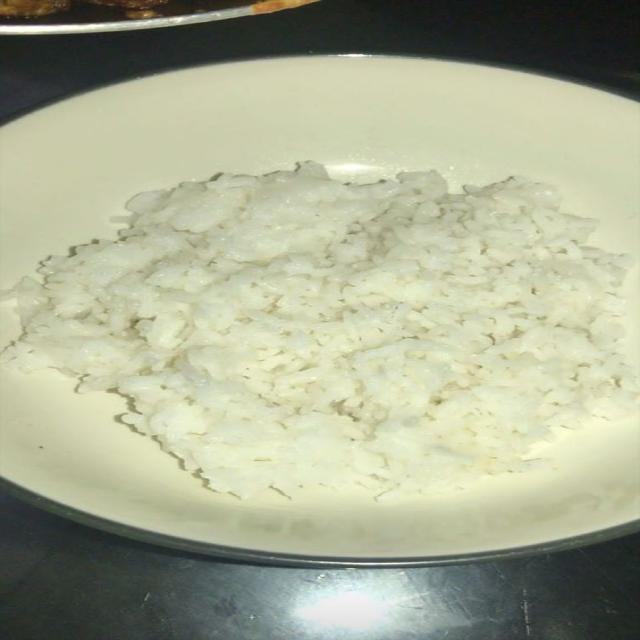nasi_putih: (0, 173, 616, 487)
